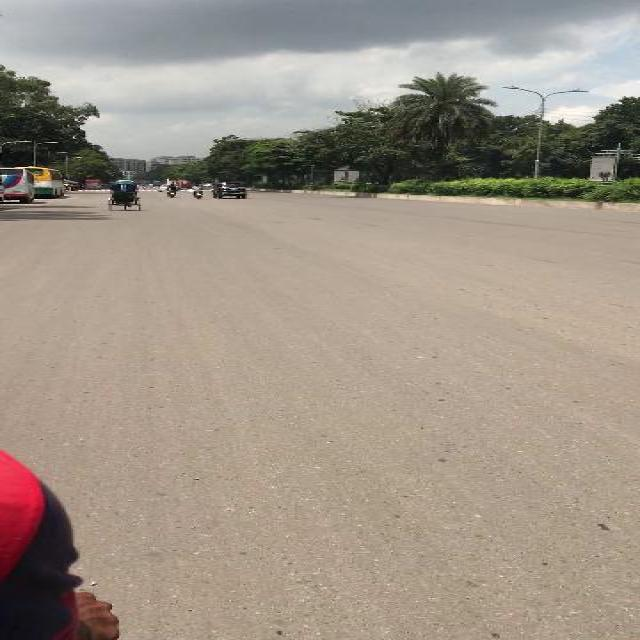10: (164, 182, 177, 198), (190, 184, 204, 198)
13: (106, 179, 140, 211)
15: (210, 181, 245, 199)
5: (157, 184, 167, 192)
Truck: (2, 166, 34, 204), (30, 166, 66, 198), (162, 177, 180, 185)
